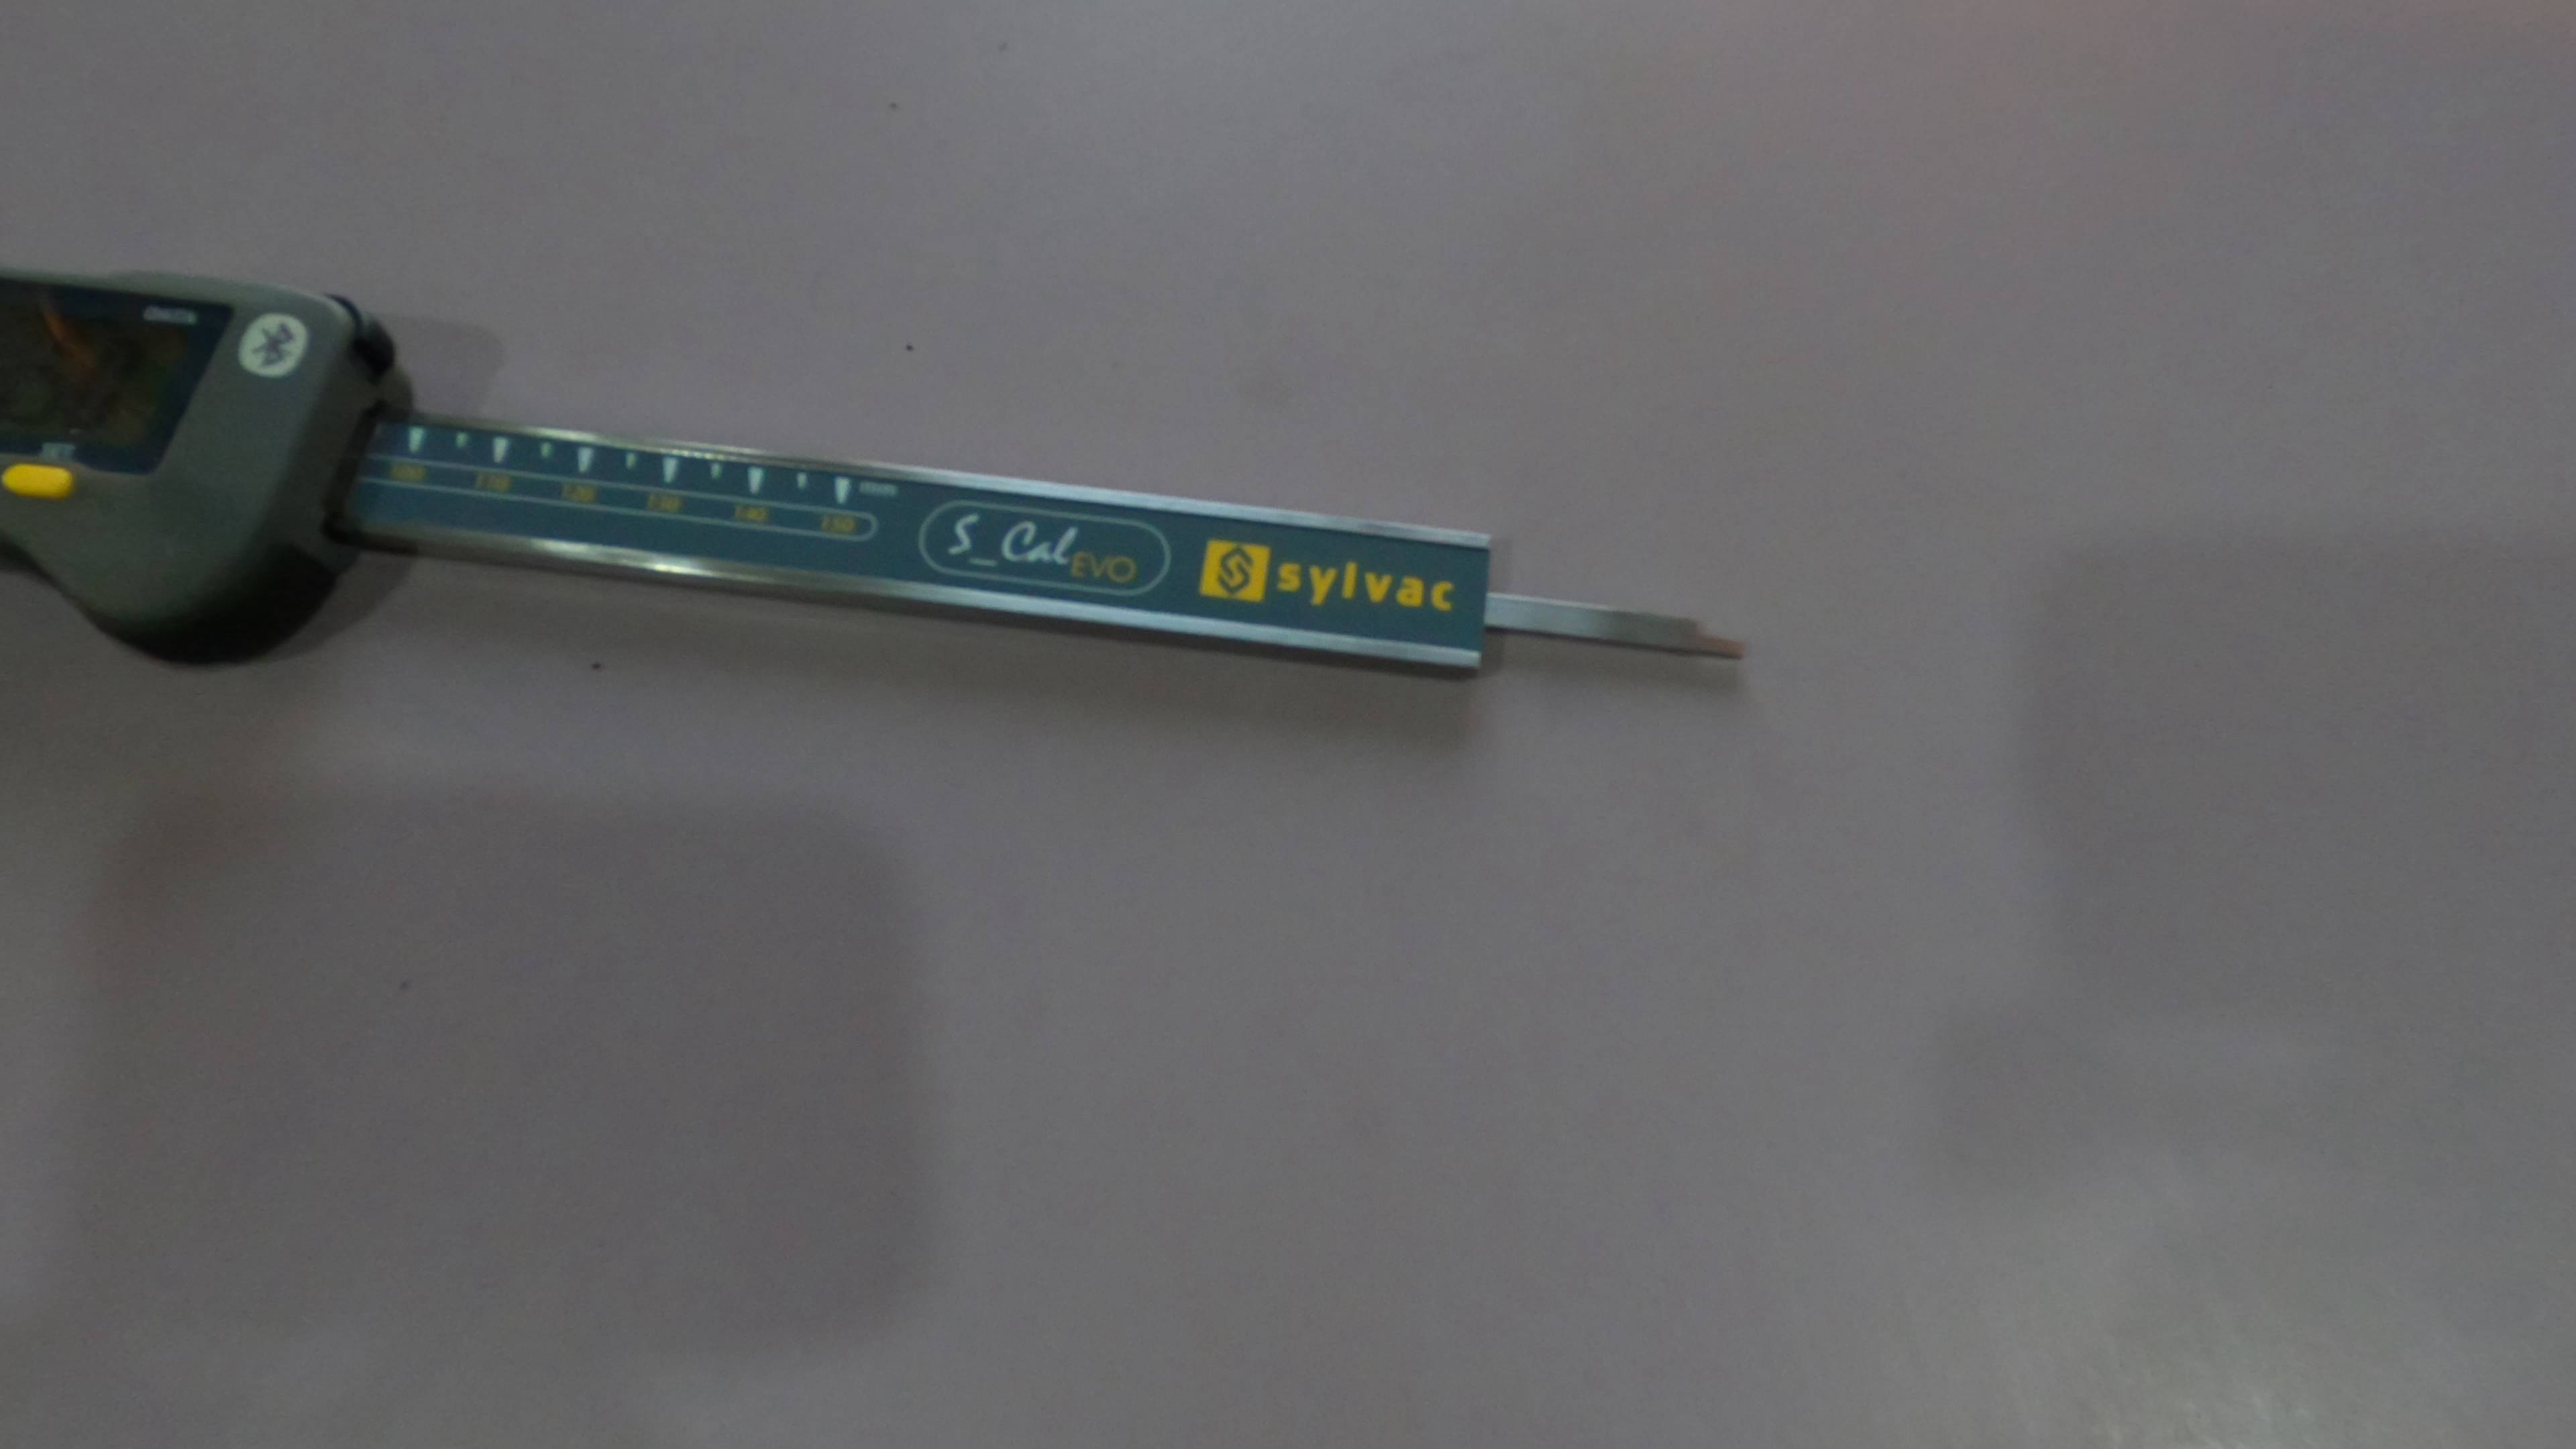vernier_caliper: (4, 241, 1752, 706)
